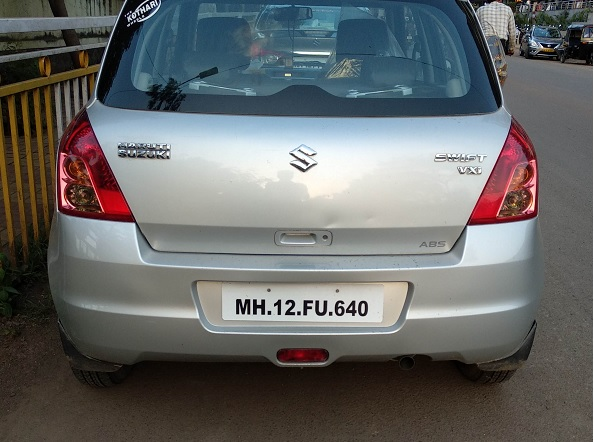licenseplate: (220, 282, 389, 328)
